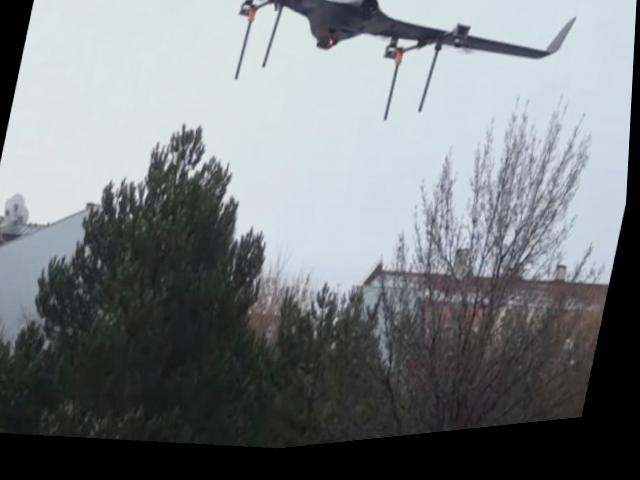iha: (121, 0, 588, 181)
